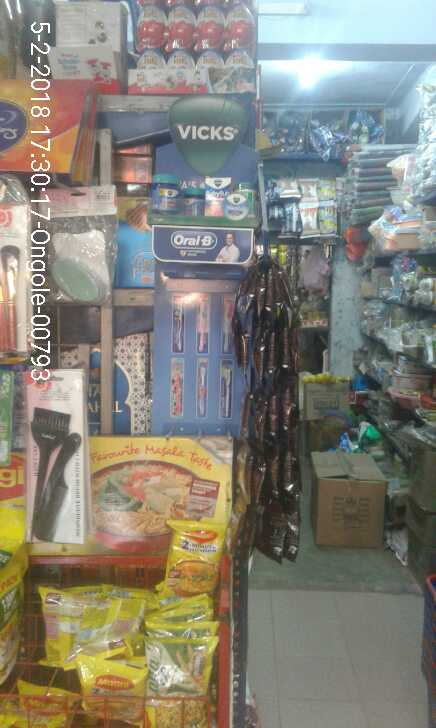vicks: (144, 176, 262, 225)
